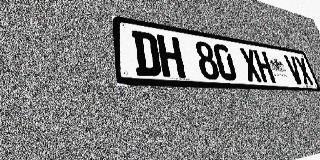0: (212, 43, 238, 81)
8: (194, 40, 221, 80)
D: (131, 30, 162, 77)
H: (156, 34, 186, 78), (253, 50, 276, 83)
V: (283, 55, 305, 84)
X: (239, 47, 263, 82), (294, 56, 314, 85)
